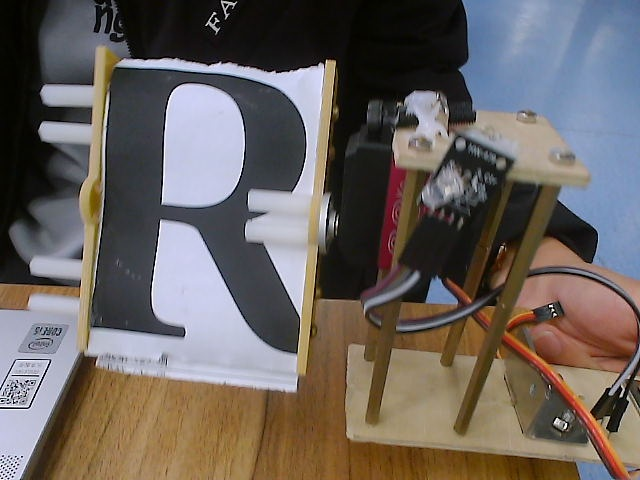R: (24, 38, 384, 431)
